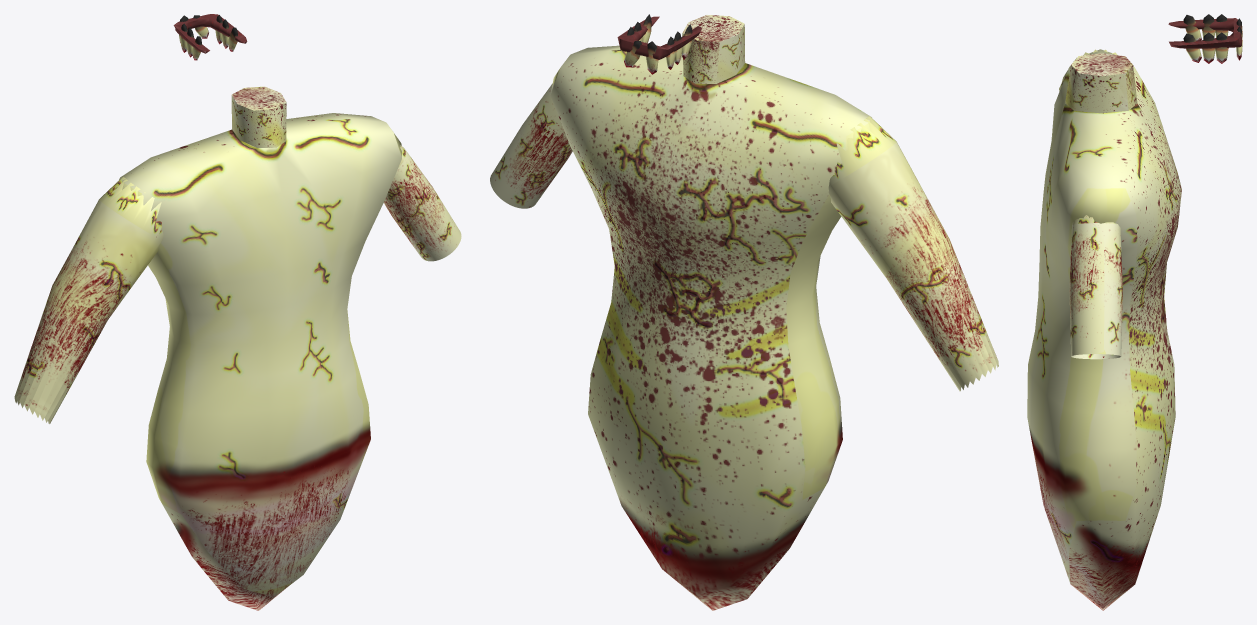
The model's file is Entity2FBX.fbx.
The picture shows the model from 3 angles, left to right: view 1: azimuth 30°, elevation 25°; view 2: azimuth 150°, elevation 25°; view 3: azimuth 270°, elevation 25°; orthographic projection. The views are drawn at different scales.
Visible parts, largest first — view 1: pCylinder4; view 2: pCylinder4; view 3: pCylinder4.
Boxes of the visible parts, left/top/right/bottom form: pCylinder4: left=14, top=14, right=461, bottom=610; pCylinder4: left=490, top=14, right=998, bottom=610; pCylinder4: left=1027, top=14, right=1242, bottom=610.
Size of the model in its own units: 26.86 by 32.12 by 10.68.
